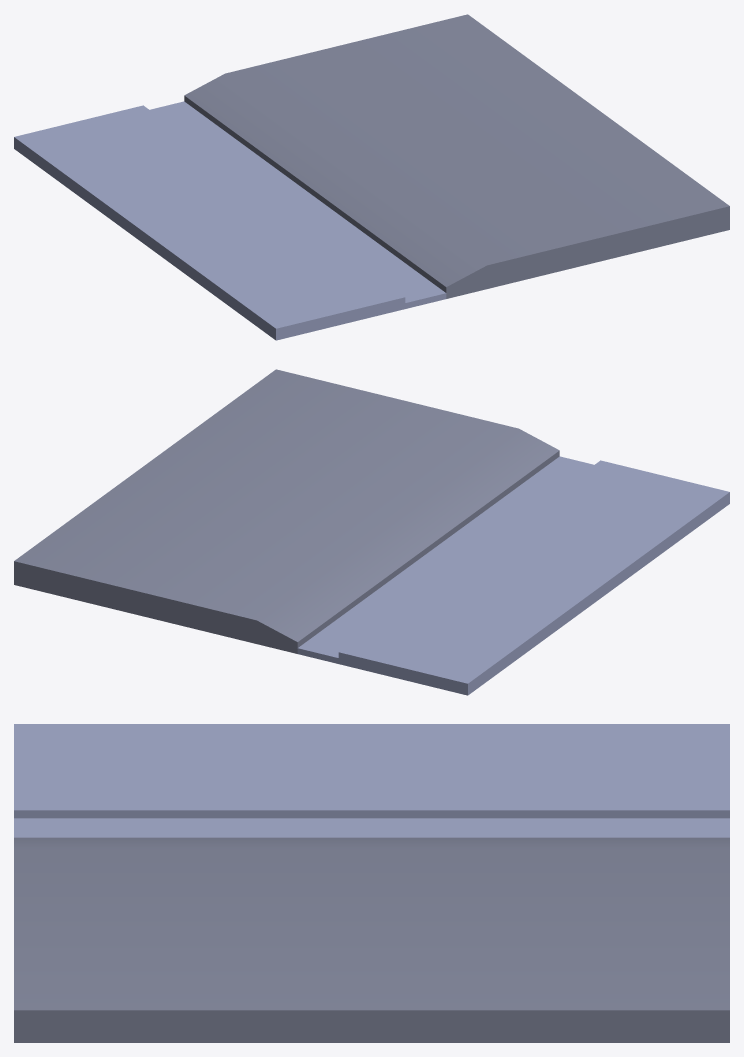
The model's file is road-edge.glb.
The picture shows the model from 3 angles, top to bottom: view 1: azimuth 30°, elevation 25°; view 2: azimuth 150°, elevation 25°; view 3: azimuth 270°, elevation 25°; orthographic projection. The views are drawn at different scales.
Visible parts, largest first — view 1: road-edge; view 2: road-edge; view 3: road-edge.
Part boxes in pixels (left/top/right/bottom): road-edge: left=14, top=14, right=729, bottom=340; road-edge: left=14, top=369, right=729, bottom=695; road-edge: left=14, top=724, right=729, bottom=1042.
Size of the model in its own units: 1 by 0.05 by 1.
1 material, 1 textured.
